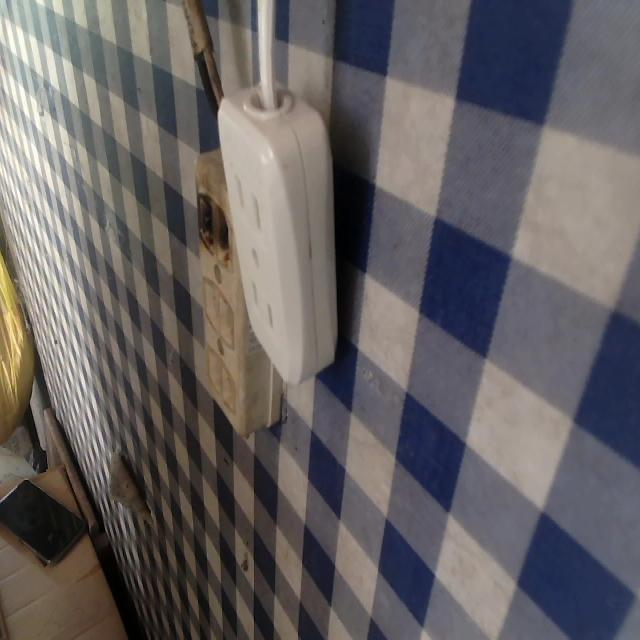-: (188, 182, 233, 262)
